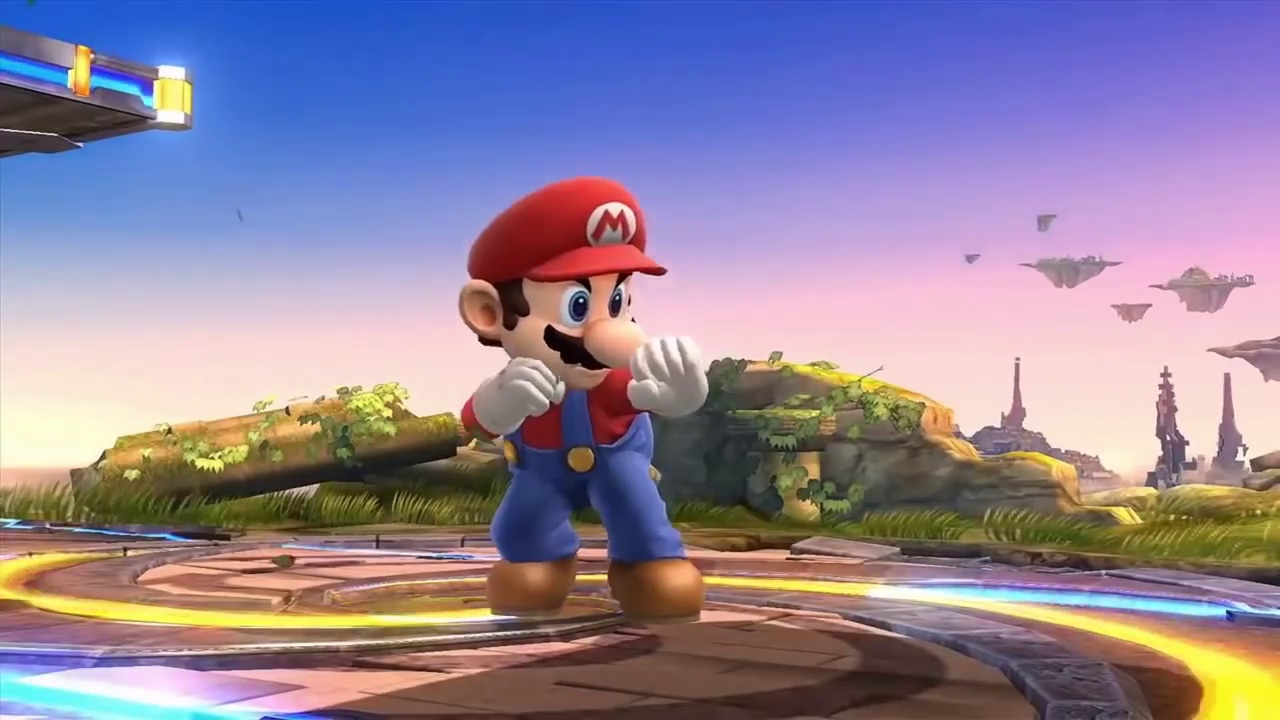Mario: (459, 176, 709, 625)
